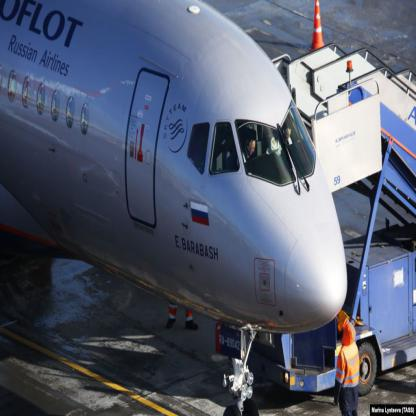CIV_Plane: (1, 0, 350, 342)
